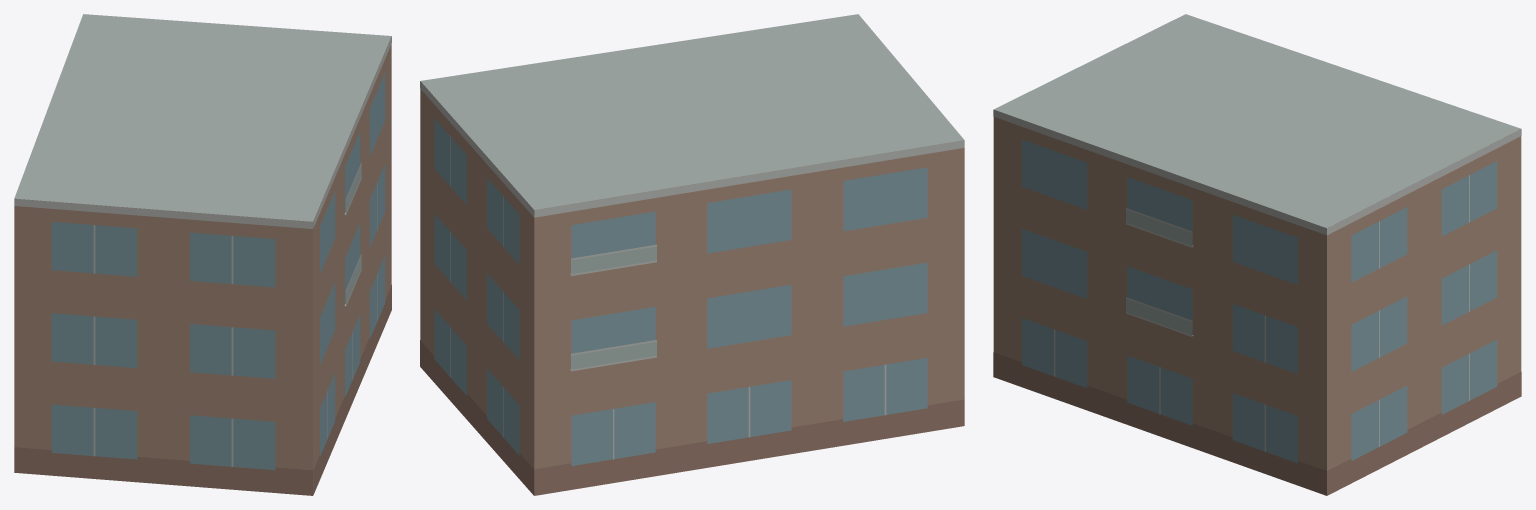
The model's file is survey-upis-32699221.glb.
3 views of the same model, side by side, from view 1: azimuth 30°, elevation 25°; view 2: azimuth 150°, elevation 25°; view 3: azimuth 270°, elevation 25° (orthographic). The views are drawn at different scales.
Parts seen in each view (by area): view 1: survey-upis-32699221.tmp; view 2: survey-upis-32699221.tmp; view 3: survey-upis-32699221.tmp.
Boxes of the visible parts, left/top/right/bottom form: survey-upis-32699221.tmp: left=14, top=14, right=391, bottom=495; survey-upis-32699221.tmp: left=420, top=14, right=964, bottom=495; survey-upis-32699221.tmp: left=993, top=14, right=1521, bottom=495.
Size of the model in its own units: 15.72 by 9.15 by 16.37.
